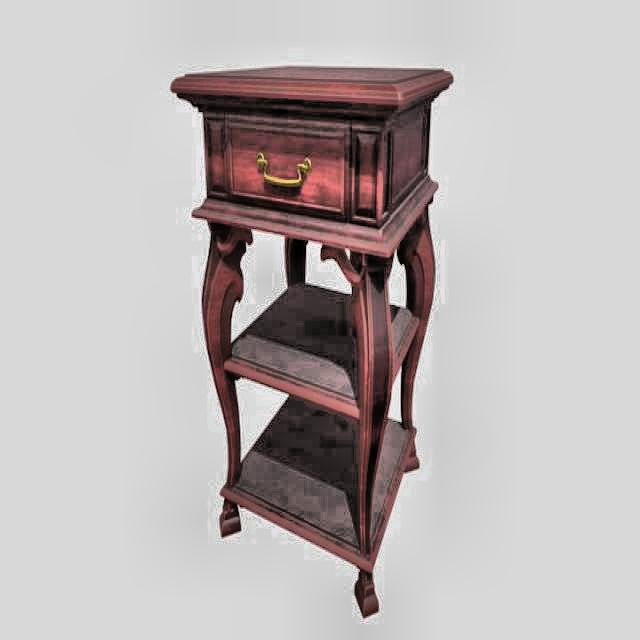mesa: (170, 65, 453, 620)
